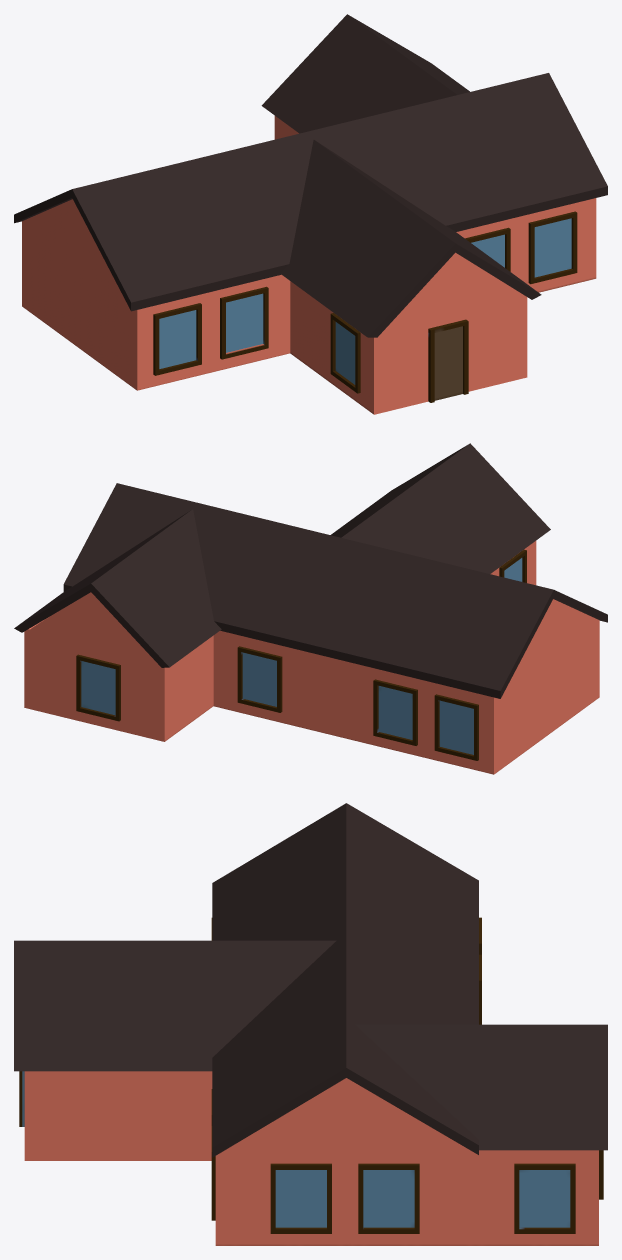
Rendered from OSHouse05.glb.
3 renders of one model, top to bottom at view 1: azimuth 30°, elevation 25°; view 2: azimuth 150°, elevation 25°; view 3: azimuth 270°, elevation 25°, orthographic. The views are drawn at different scales.
Parts seen in each view (by area): view 1: OSHouse05Roof, OSHouse05; view 2: OSHouse05Roof, OSHouse05; view 3: OSHouse05Roof, OSHouse05.
Part boxes in pixels (x1=…): OSHouse05Roof: x1=14, y1=14, x2=607, y2=337; OSHouse05: x1=22, y1=116, x2=596, y2=414; OSHouse05Roof: x1=14, y1=443, x2=607, y2=698; OSHouse05: x1=24, y1=541, x2=599, y2=774; OSHouse05Roof: x1=14, y1=803, x2=607, y2=1157; OSHouse05: x1=19, y1=917, x2=603, y2=1245.
Size of what is drawn, in the model's own units: 9.3 by 3.01 by 8.81.
2 materials, 1 textured.
